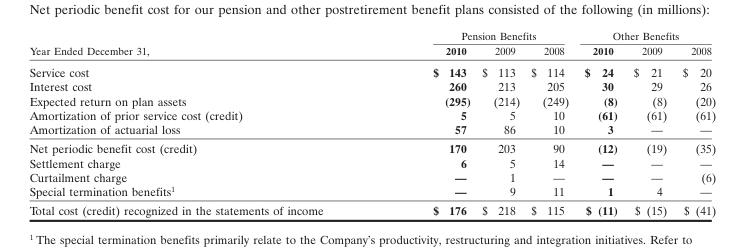table: (28, 28, 715, 217)
table column: (28, 28, 377, 217), (377, 28, 475, 217), (524, 28, 575, 217), (475, 28, 524, 217), (575, 28, 624, 217), (624, 28, 673, 217), (673, 28, 715, 217)
table column header: (28, 28, 715, 60)
table row: (28, 60, 715, 79), (28, 42, 715, 60), (28, 121, 715, 138), (28, 138, 715, 155), (28, 183, 715, 200), (28, 200, 715, 217), (28, 28, 715, 42), (28, 79, 715, 93), (28, 93, 715, 107), (28, 107, 715, 121), (28, 155, 715, 169), (28, 169, 715, 183)
table spanning cell: (28, 28, 377, 60), (377, 28, 575, 42), (575, 28, 715, 42)
